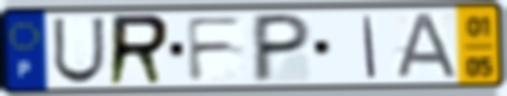A: (389, 12, 462, 80)
F: (183, 14, 247, 84)
I: (360, 14, 378, 80)
P: (249, 12, 315, 85)
R: (105, 12, 173, 89)
U: (50, 16, 107, 86)
